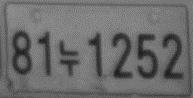1: (36, 32, 53, 77), (87, 32, 103, 79)
2: (161, 32, 185, 80), (111, 32, 133, 80)
5: (136, 32, 159, 79)
8: (11, 30, 33, 76)
누: (58, 38, 80, 77)
